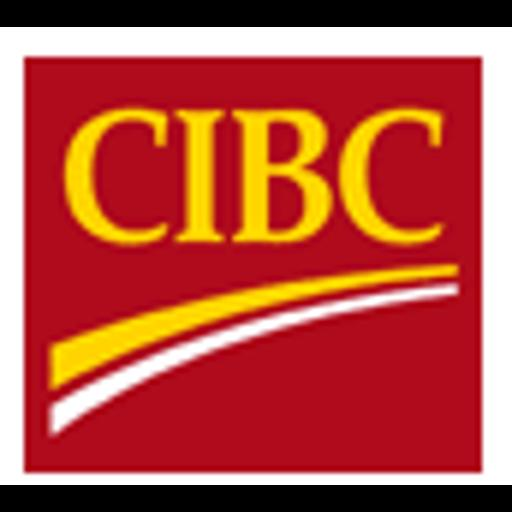Canadian Imperial Bank of Commerce: (0, 27, 512, 485)
